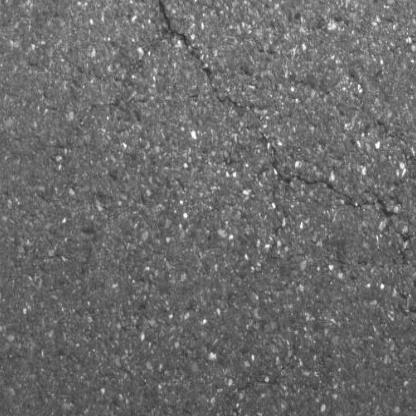Cracks: (146, 0, 247, 114), (268, 142, 399, 224), (390, 286, 416, 342), (391, 226, 414, 264)
